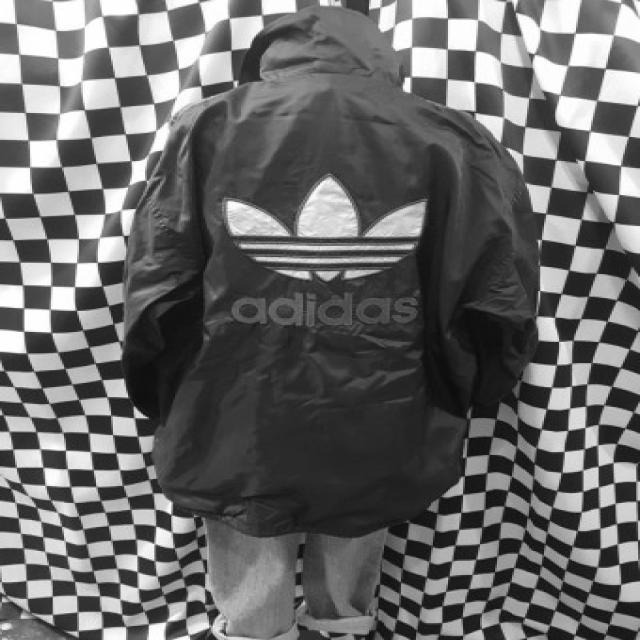Adidas: (209, 168, 438, 286)
